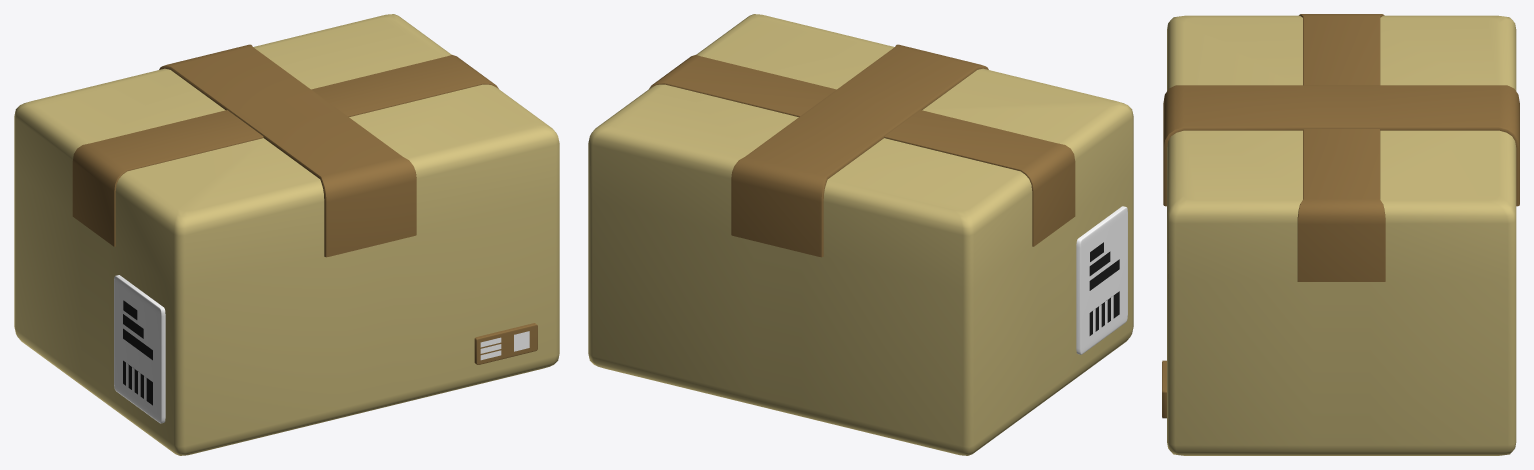
Rendered from Package.fbx.
3 views of the same model, side by side, from view 1: azimuth 30°, elevation 25°; view 2: azimuth 150°, elevation 25°; view 3: azimuth 270°, elevation 25° (orthographic). The views are drawn at different scales.
Parts seen in each view (by area): view 1: PackageBody, PackageScotch, QrPlate, InformationSticker; view 2: PackageBody, PackageScotch, QrPlate; view 3: PackageBody, PackageScotch.
Part boxes in pixels (<box>): PackageBody: <box>14,14,559,455</box>; PackageScotch: <box>72,44,498,257</box>; QrPlate: <box>114,275,165,423</box>; InformationSticker: <box>474,323,537,364</box>; PackageBody: <box>588,14,1133,455</box>; PackageScotch: <box>649,44,1075,257</box>; QrPlate: <box>1076,206,1127,354</box>; PackageBody: <box>1167,15,1516,455</box>; PackageScotch: <box>1163,14,1519,281</box>.
Size of the model in its own units: 1.48 by 0.8865 by 1.12.
